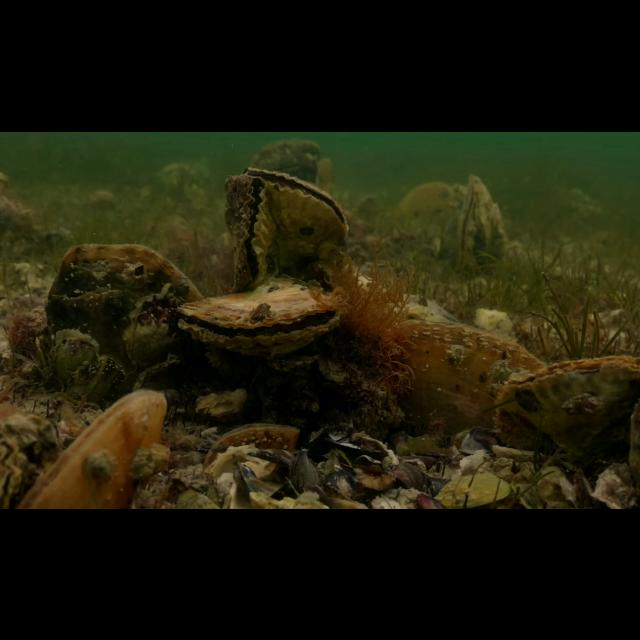Oyster-Closed: (44, 240, 206, 374), (386, 316, 548, 448), (14, 385, 170, 509), (498, 350, 640, 462), (450, 170, 508, 272), (202, 420, 302, 476), (67, 354, 125, 408), (133, 349, 185, 395)
Oyster-Open: (175, 274, 352, 358), (244, 165, 350, 258), (222, 172, 276, 288), (48, 325, 98, 383), (0, 428, 24, 509)
